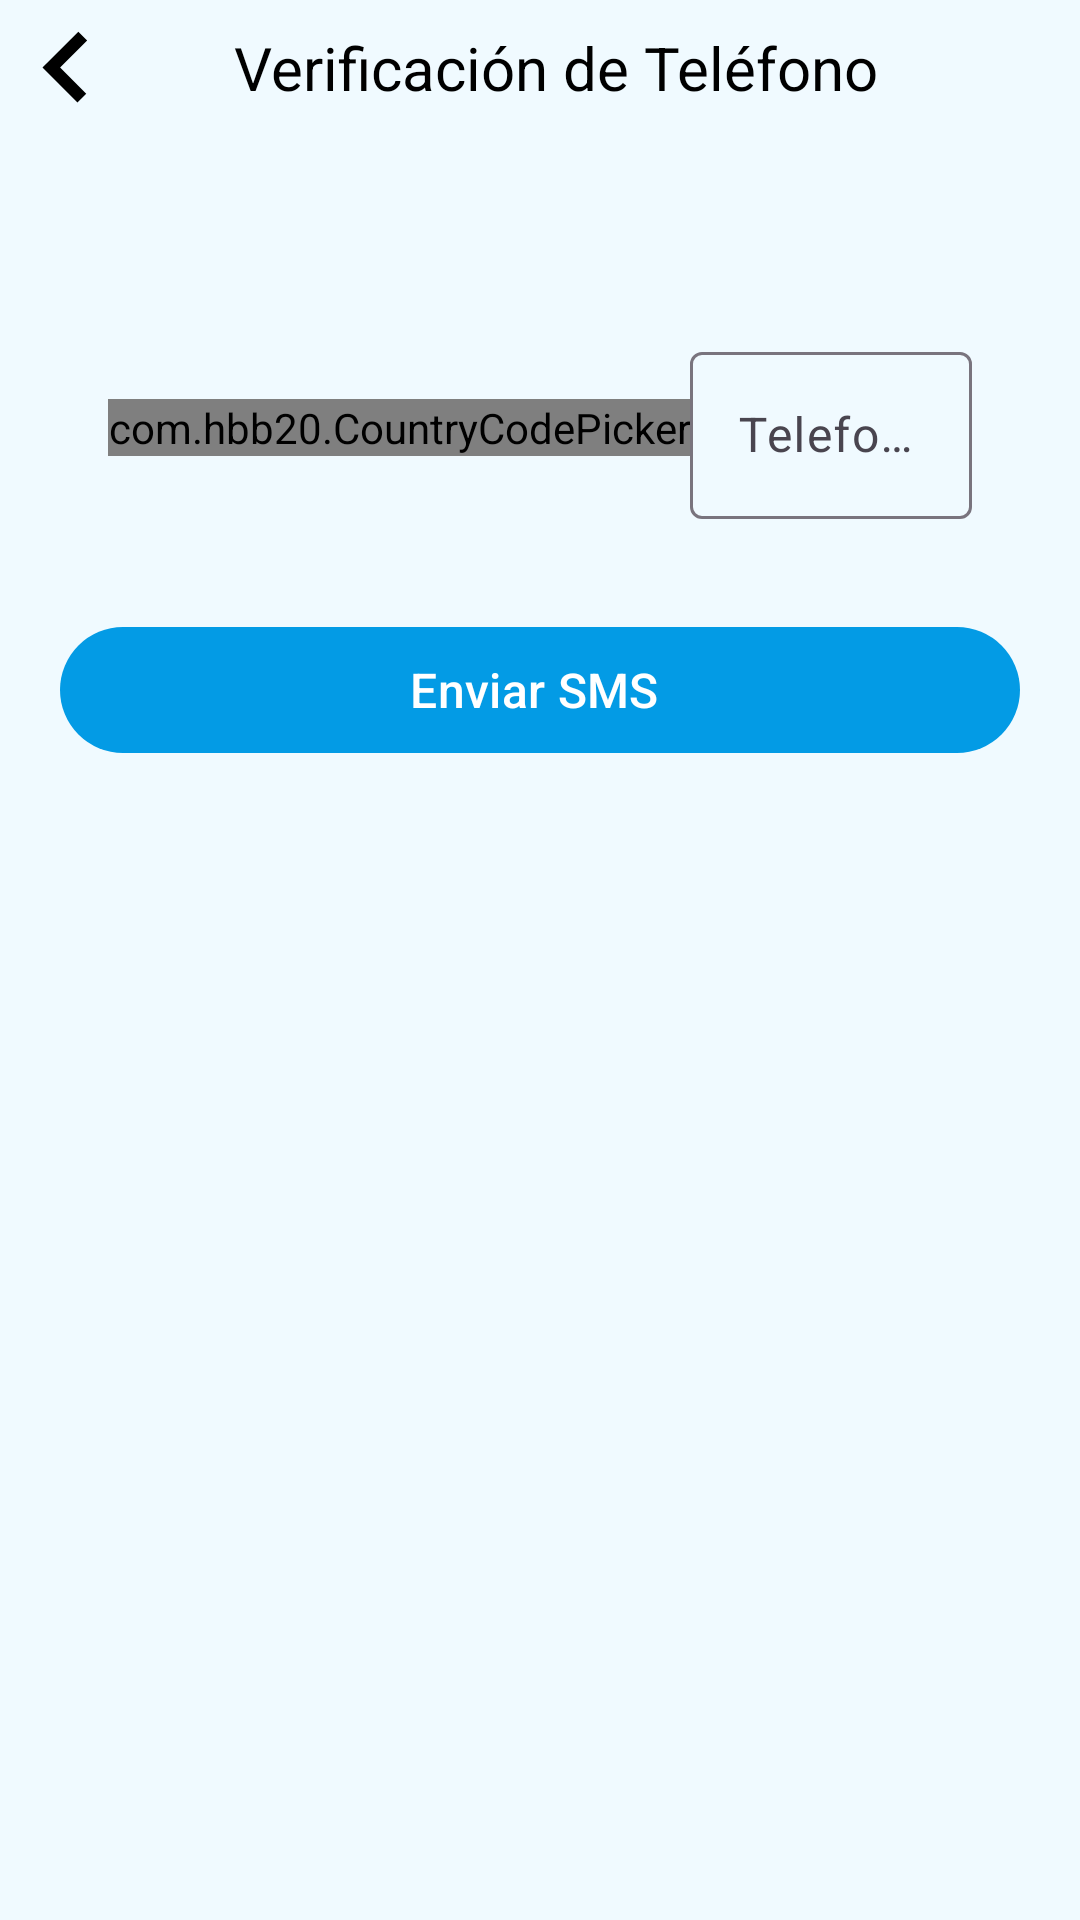

Icons on this 1080 × 1920 Android screen, each with the point to tap as point (x, y):
arrow back: point (64, 67)
